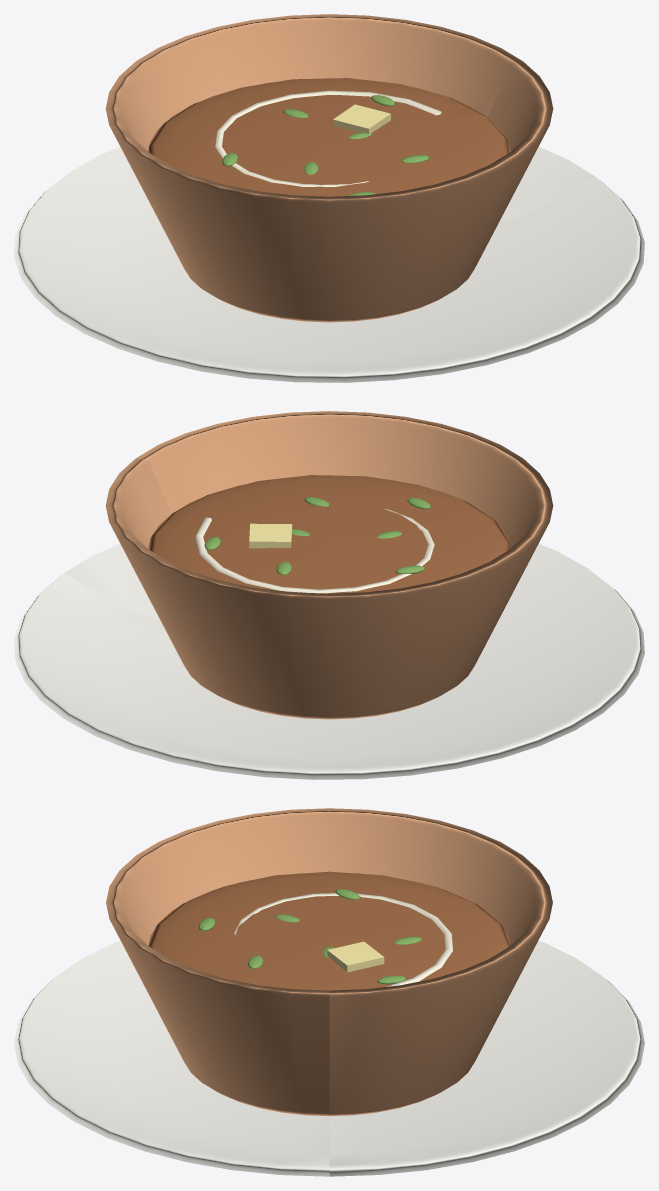
File: dal-makhani.glb
The picture shows the model from 3 angles, top to bottom: view 1: azimuth 30°, elevation 25°; view 2: azimuth 150°, elevation 25°; view 3: azimuth 270°, elevation 25°; orthographic projection.
Visible parts, largest first — view 1: dal-makhani; view 2: dal-makhani; view 3: dal-makhani.
Boxes of the visible parts, <box> form: dal-makhani: <box>14,14,644,382</box>; dal-makhani: <box>14,411,644,779</box>; dal-makhani: <box>14,808,644,1176</box>.
Size of the model in its own units: 0.24 by 0.071 by 0.24.
